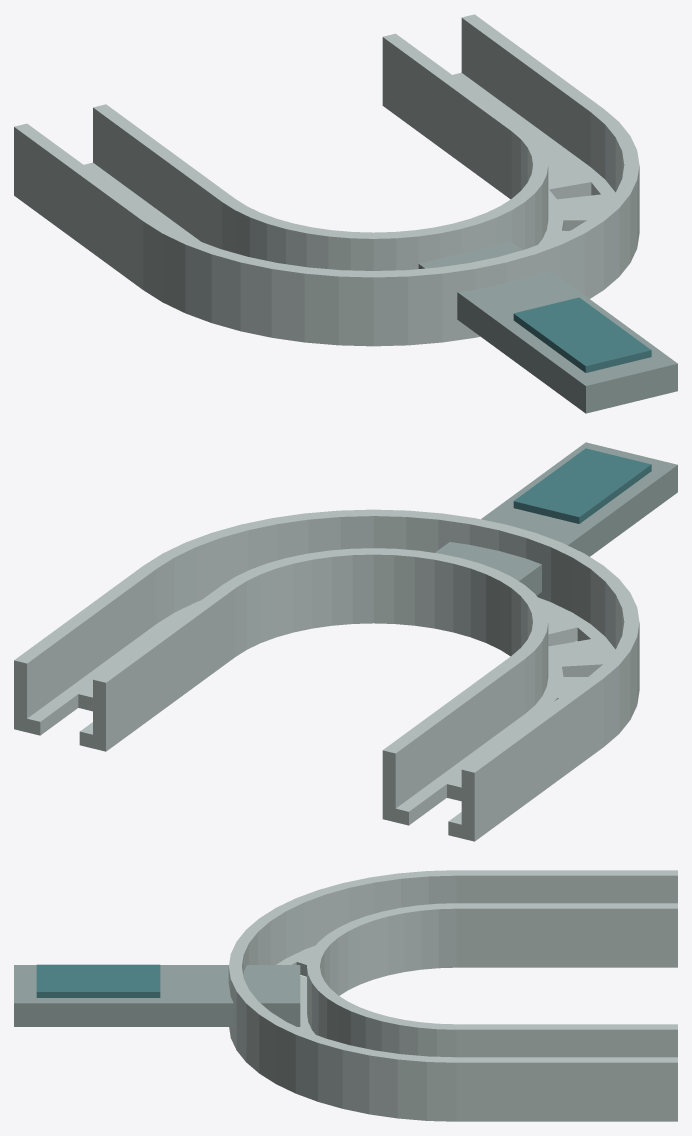
3 views of the same model, one above another, from view 1: azimuth 30°, elevation 25°; view 2: azimuth 150°, elevation 25°; view 3: azimuth 270°, elevation 25° (orthographic). The views are drawn at different scales.
Parts seen in each view (by area): view 1: WholeContinuousOpenEndedPerforatedUChannel, WholeAnteriorFlatHandle, WholeBlankGripInset; view 2: WholeContinuousOpenEndedPerforatedUChannel, WholeAnteriorFlatHandle, WholeBlankGripInset; view 3: WholeContinuousOpenEndedPerforatedUChannel, WholeAnteriorFlatHandle, WholeBlankGripInset.
Part boxes in pixels (x1,y1,x2,y2): WholeContinuousOpenEndedPerforatedUChannel: (14,14,639,346); WholeAnteriorFlatHandle: (418,241,677,413); WholeBlankGripInset: (513,297,651,372); WholeContinuousOpenEndedPerforatedUChannel: (14,509,639,841); WholeAnteriorFlatHandle: (435,442,677,595); WholeBlankGripInset: (513,448,651,523); WholeContinuousOpenEndedPerforatedUChannel: (228,870,677,1121); WholeAnteriorFlatHandle: (14,965,300,1026); WholeBlankGripInset: (36,964,160,997).
Bounding box in the file's own units: 0.07 × 0.01 × 0.102.
